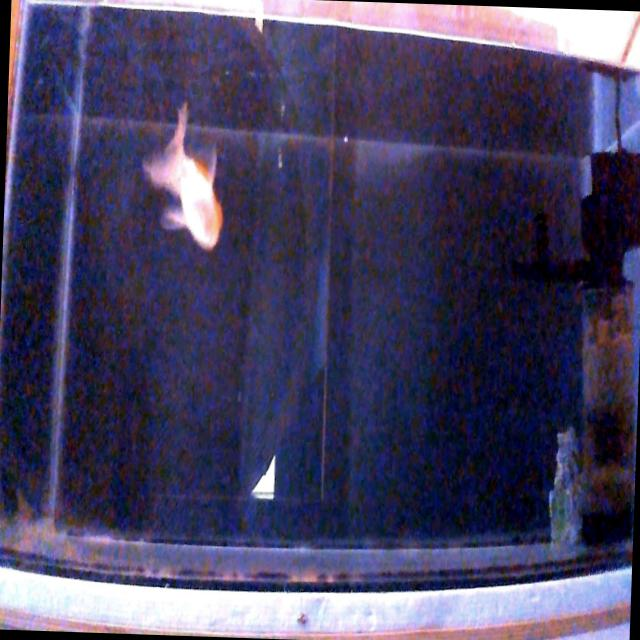fish: (137, 99, 227, 250)
